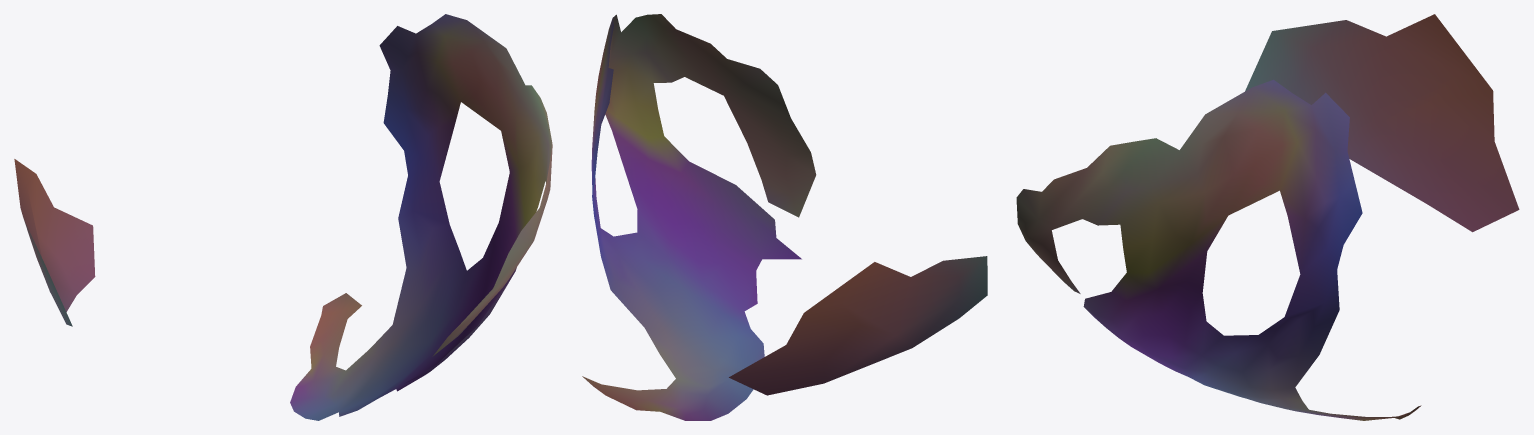
The model's file is space-nebulae-nebula_v67.glb.
3 renders of one model, left to right at view 1: azimuth 30°, elevation 25°; view 2: azimuth 150°, elevation 25°; view 3: azimuth 270°, elevation 25°, orthographic. The views are drawn at different scales.
Visible parts, largest first — view 1: Nebula_v67; view 2: Nebula_v67; view 3: Nebula_v67.
Boxes of the visible parts, left/top/right/bottom form: Nebula_v67: left=14, top=14, right=552, bottom=420; Nebula_v67: left=582, top=14, right=987, bottom=420; Nebula_v67: left=1016, top=14, right=1519, bottom=420.
Size of the model in its own units: 0.5 by 0.4069 by 0.4602.
